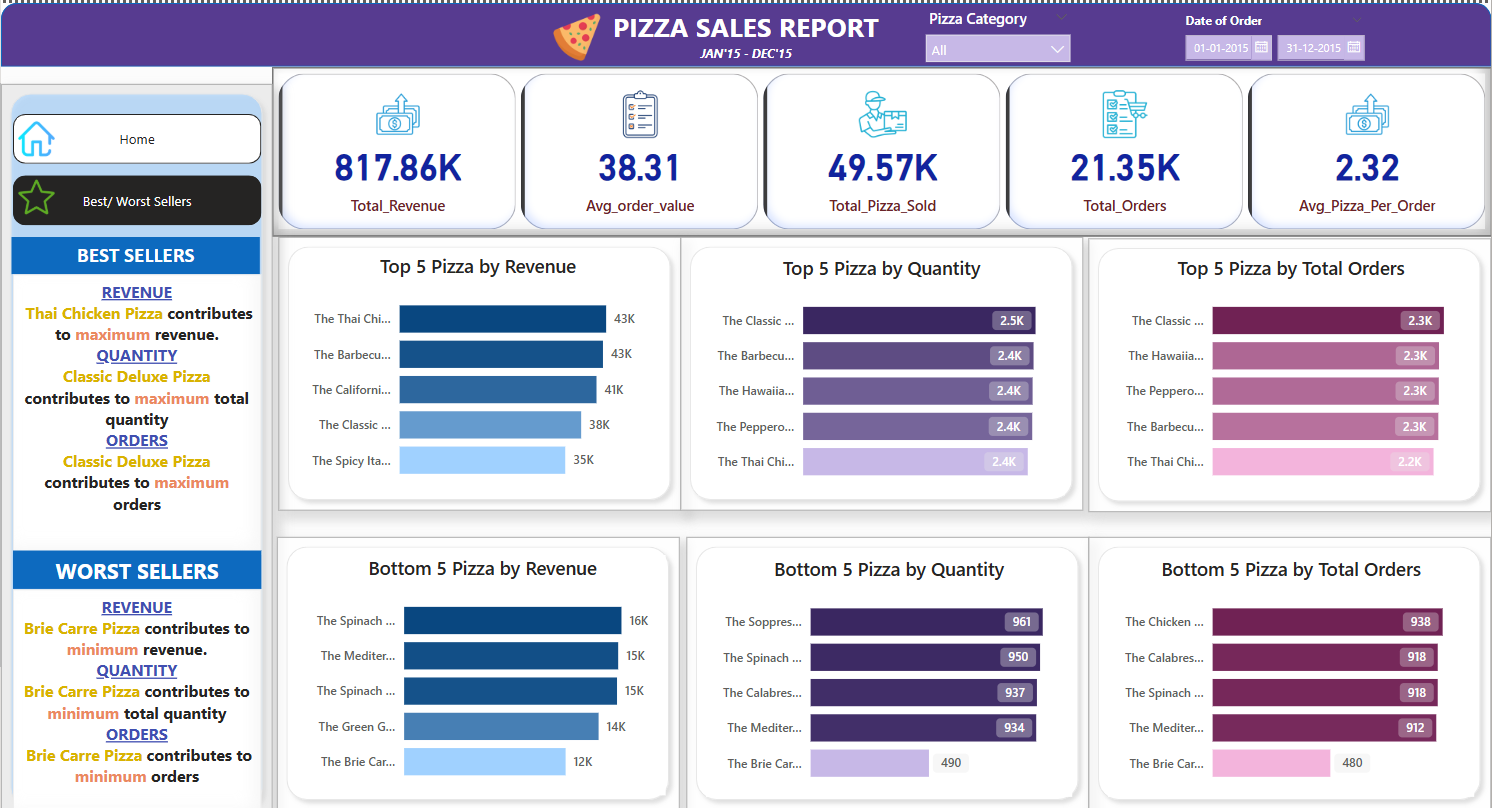

What the dashboard file says about the page in this screenshot:
{"tool":"powerbi","page":{"name":"Best/ Worst Sellers","canvas":[1500,820],"ordinal":1},"visuals":[{"type":"cardVisual","fields":{"Data":["pizza_sales.Total_Revenue","pizza_sales.Avg_order_value","pizza_sales.Total_Pizza_Sold","pizza_sales.Total_Orders","pizza_sales.Avg_Pizza_Per_Order"]},"box":[273.2,64.6,1227.5,169.8],"z":0},{"type":"shape","box":[0,0,1500.4,64.1],"z":1000},{"type":"textbox","box":[0,0,1500,65],"z":2000},{"type":"image","box":[550.2,4.7,59.4,59.4],"z":3000},{"type":"shape","box":[280,235,405,275],"z":4000},{"type":"shape","box":[0,81.3,273.5,739.3],"z":5000},{"type":"textbox","box":[10.9,236,250.1,37.5],"z":6000},{"type":"textbox","box":[11.7,273.3,250,281.7],"z":7000},{"type":"textbox","box":[11.7,590,250,230],"z":8000},{"type":"textbox","box":[11.7,551.7,250,38.3],"z":9000},{"type":"slicer","fields":{"Values":["pizza_sales.pizza_category"]},"box":[921.7,0,165,71.7],"z":10000},{"type":"slicer","fields":{"Values":["pizza_sales.order_date"]},"box":[1180,5,203.3,66.7],"z":11000},{"type":"shape","box":[683.3,235,405,275],"z":12000},{"type":"shape","box":[1095,236.7,405,275],"z":13000},{"type":"shape","box":[278.3,538.3,405,275],"z":14000},{"type":"shape","box":[690,538.3,405,275],"z":15000},{"type":"shape","box":[1095,538.3,405,275],"z":16000},{"type":"barChart","title":"Top 5 Pizza by Revenue","fields":{"Y":["pizza_sales.Total_Revenue"],"Category":["pizza_sales.pizza_name"]},"box":[296.7,251.7,368.3,241.7],"z":17000},{"type":"barChart","title":"Bottom 5 Pizza by Revenue","fields":{"Y":["pizza_sales.Total_Revenue"],"Category":["pizza_sales.pizza_name"]},"box":[300,555,368.3,241.7],"z":18000},{"type":"barChart","title":"Top 5 Pizza by Quantity","fields":{"Category":["pizza_sales.pizza_name"],"Y":["pizza_sales.Total_Pizza_Sold"]},"box":[701.7,253.3,368.3,241.7],"z":19000},{"type":"barChart","title":"Bottom 5 Pizza by Quantity","fields":{"Category":["pizza_sales.pizza_name"],"Y":["pizza_sales.Total_Pizza_Sold"]},"box":[710,556.7,368.3,241.7],"z":20000},{"type":"barChart","title":"Top 5 Pizza by Total Orders","fields":{"Category":["pizza_sales.pizza_name"],"Y":["pizza_sales.Total_Orders"]},"box":[1115,253.3,368.3,241.7],"z":21000},{"type":"barChart","title":"Bottom 5 Pizza by Total Orders","fields":{"Category":["pizza_sales.pizza_name"],"Y":["pizza_sales.Total_Orders"]},"box":[1115,556.7,368.3,241.7],"z":22000},{"type":"pageNavigator","box":[11.7,111.7,250,50],"z":22001},{"type":"pageNavigator","box":[11.7,173.3,250,50],"z":22002},{"type":"image","box":[11.7,168.3,46.7,55],"z":22003},{"type":"image","box":[11.7,111.7,46.7,50],"z":22004}]}

Visuals, with their boxes in screenshot pixels (x1, y1, x2, y2), scaled from the page's 1500x820 canvas onto the 1492x808 screenshot:
cardVisual - pizza_sales.Total_Revenue x pizza_sales.Avg_order_value: bbox=[272, 64, 1491, 231]
shape: bbox=[0, 0, 1491, 63]
textbox: bbox=[0, 0, 1491, 64]
image: bbox=[547, 5, 606, 63]
shape: bbox=[279, 232, 681, 503]
shape: bbox=[0, 80, 272, 807]
textbox: bbox=[11, 233, 260, 269]
textbox: bbox=[12, 269, 260, 547]
textbox: bbox=[12, 581, 260, 807]
textbox: bbox=[12, 544, 260, 581]
slicer - pizza_sales.pizza_category: bbox=[917, 0, 1081, 71]
slicer - pizza_sales.order_date: bbox=[1174, 5, 1376, 71]
shape: bbox=[680, 232, 1082, 503]
shape: bbox=[1089, 233, 1491, 504]
shape: bbox=[277, 530, 680, 801]
shape: bbox=[686, 530, 1089, 801]
shape: bbox=[1089, 530, 1491, 801]
"Top 5 Pizza by Revenue" barChart: bbox=[295, 248, 661, 486]
"Bottom 5 Pizza by Revenue" barChart: bbox=[298, 547, 665, 785]
"Top 5 Pizza by Quantity" barChart: bbox=[698, 250, 1064, 488]
"Bottom 5 Pizza by Quantity" barChart: bbox=[706, 549, 1073, 787]
"Top 5 Pizza by Total Orders" barChart: bbox=[1109, 250, 1475, 488]
"Bottom 5 Pizza by Total Orders" barChart: bbox=[1109, 549, 1475, 787]
pageNavigator: bbox=[12, 110, 260, 159]
pageNavigator: bbox=[12, 171, 260, 220]
image: bbox=[12, 166, 58, 220]
image: bbox=[12, 110, 58, 159]
